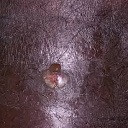Carbuncle: (39, 61, 72, 91)
